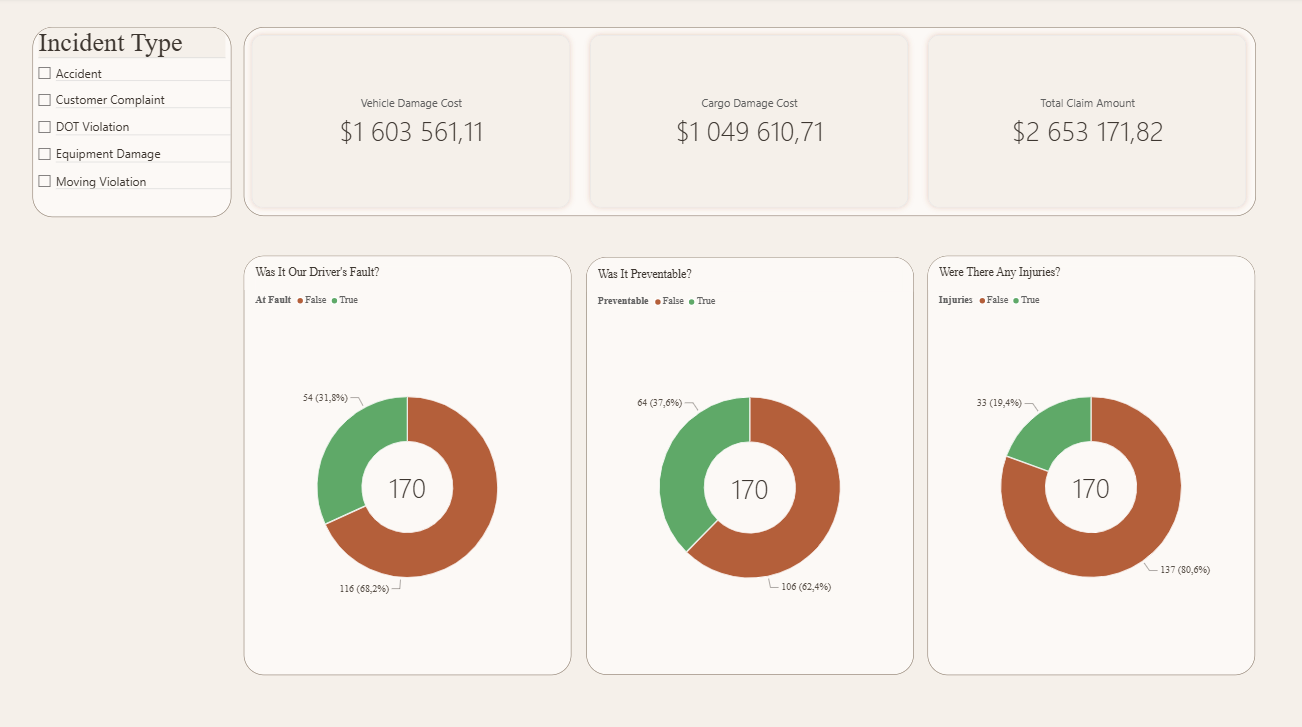

The page's visual inventory and layout, read from the dashboard file:
{"tool":"powerbi","page":{"name":"Safety","canvas":[1920,1080],"ordinal":4},"visuals":[{"type":"slicer","fields":{"Values":["fact_safety_incidents.incident_type"]},"box":[47.9,44.2,292.6,279.8],"z":0},{"type":"cardVisual","fields":{"Data":["Sum(fact_safety_incidents.vehicle_damage_cost)","Sum(fact_safety_incidents.cargo_damage_cost)","fact_safety_incidents.Sum of cargo_damage_cost plus Sum of vehicle_damage_cost"]},"box":[358.7,44.6,1490.6,278.8],"z":1000},{"type":"donutChart","title":"Was It Our Driver''s Fault?","fields":{"Category":["fact_safety_incidents.at_fault_flag"],"Y":["CountNonNull(fact_safety_incidents.at_fault_flag)"]},"box":[358.2,380.8,482.1,617.3],"z":2000},{"type":"donutChart","title":"Was It Preventable?","fields":{"Category":["fact_safety_incidents.preventable_flag"],"Y":["CountNonNull(fact_safety_incidents.preventable_flag)"]},"box":[862.9,383,482.1,615.1],"z":3000},{"type":"donutChart","title":"Were There Any Injuries?","fields":{"Category":["fact_safety_incidents.injury_flag"],"Y":["CountNonNull(fact_safety_incidents.injury_flag)"]},"box":[1365.3,380.8,482.1,617.3],"z":4000}]}

Visuals, with their boxes in screenshot pixels (x1, y1, x2, y2), scaled from the page's 1920x1080 canvas onto the 1302x727 screenshot:
slicer - fact_safety_incidents.incident_type: [32,30,231,218]
cardVisual - Sum(fact_safety_incidents.vehicle_damage_cost) x Sum(fact_safety_incidents.cargo_damage_cost): [243,30,1254,218]
"Was It Our Driver''s Fault?" donutChart: [243,256,570,672]
"Was It Preventable?" donutChart: [585,258,912,672]
"Were There Any Injuries?" donutChart: [926,256,1253,672]
